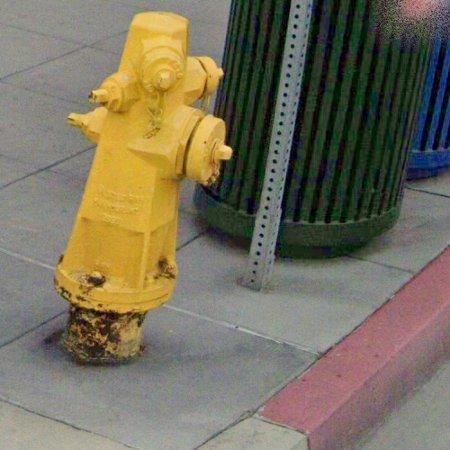a fire hydrant: (54, 12, 232, 364)
